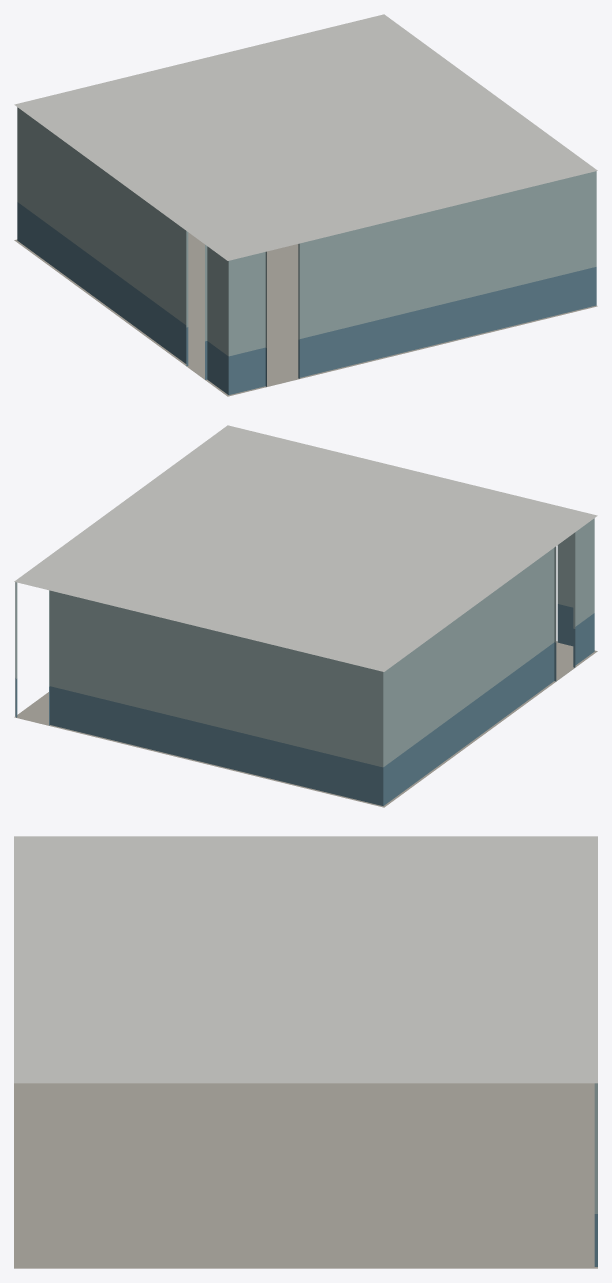
File: chunk_3_3.glb
3 views of the same model, one above another, from view 1: azimuth 30°, elevation 25°; view 2: azimuth 150°, elevation 25°; view 3: azimuth 270°, elevation 25° (orthographic). The views are drawn at different scales.
Visible parts, largest first — view 1: chunk_3_3; view 2: chunk_3_3; view 3: chunk_3_3.
Part boxes in pixels (x1,y1,x2,y2): chunk_3_3: (14, 14, 597, 396); chunk_3_3: (14, 425, 597, 807); chunk_3_3: (14, 836, 597, 1268).
Size of the model in its own units: 12 by 4.2 by 12.
